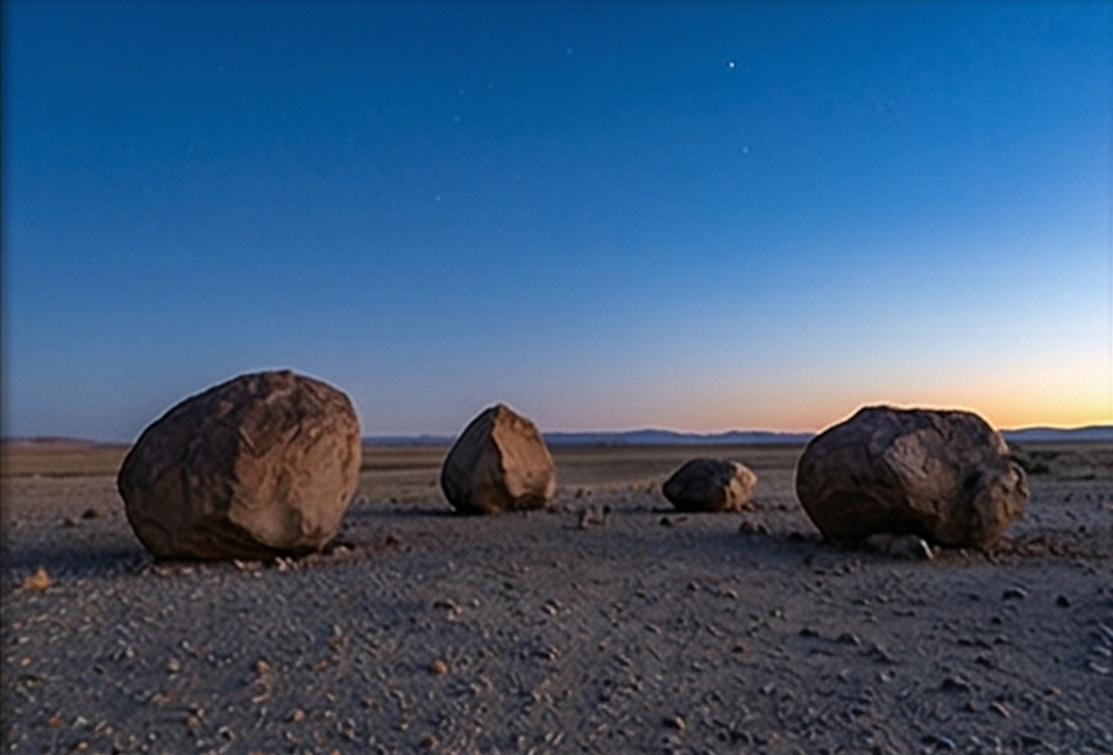rocks: (118, 372, 361, 557), (796, 408, 1027, 545), (440, 404, 554, 513), (663, 458, 756, 510)
